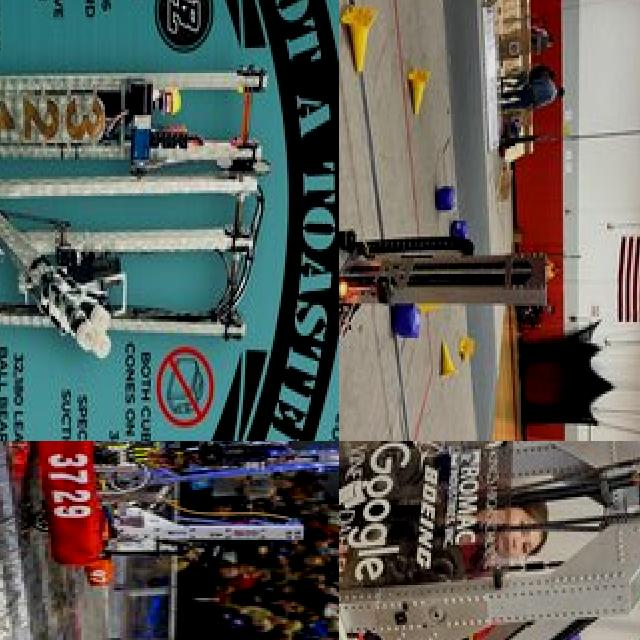FRC-Robots: (0, 10, 276, 441), (339, 135, 567, 441), (339, 441, 640, 640), (4, 441, 339, 575), (76, 488, 320, 590)
